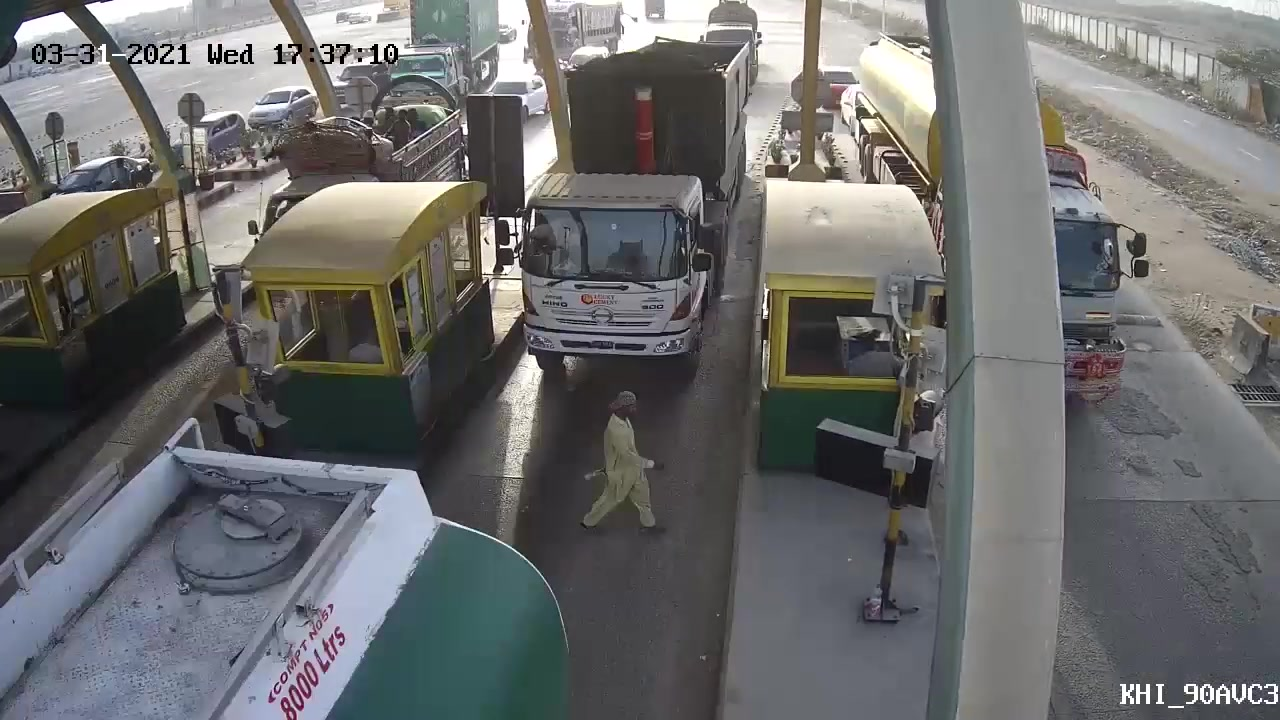F6: (505, 35, 763, 380)
